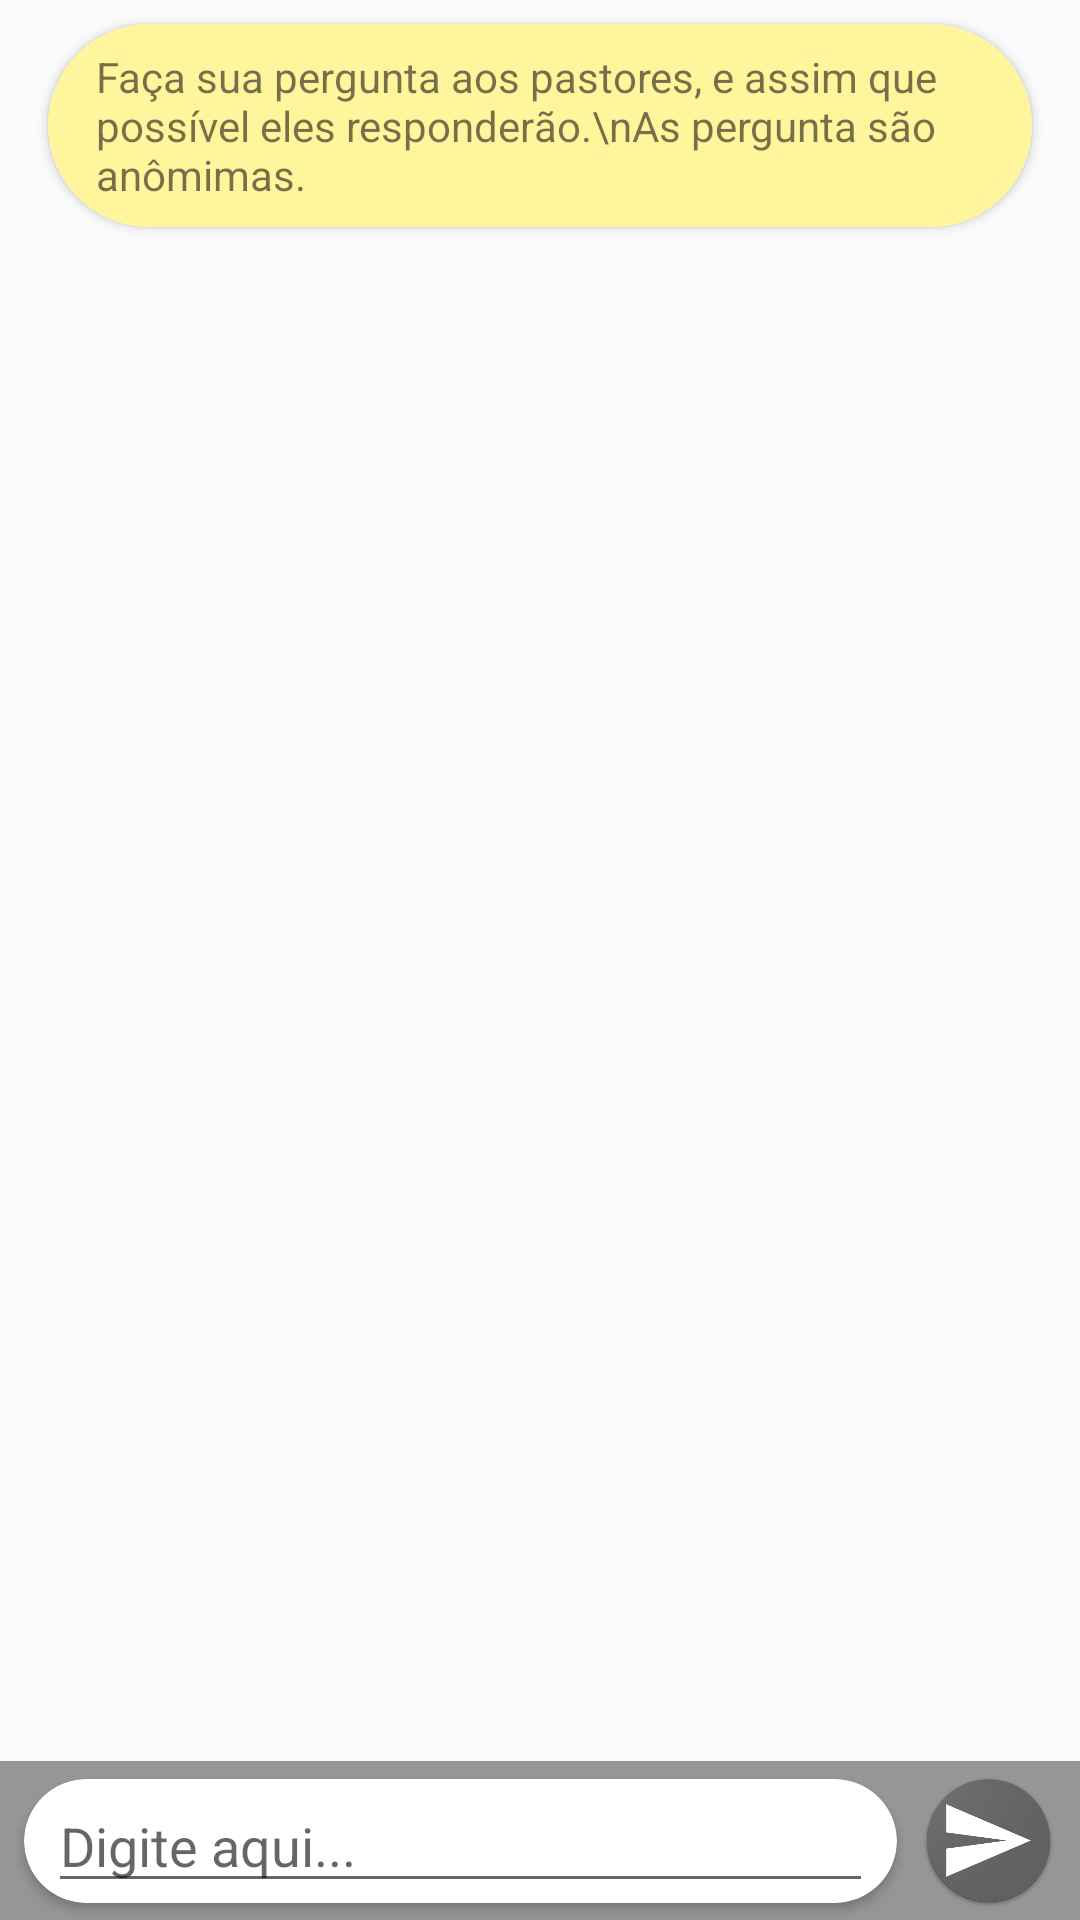

Locate icon controls on the screen. Image size 1080 x 1920, boxes as (x1, y1, x2, y2).
send: (926, 1779, 1051, 1904)
